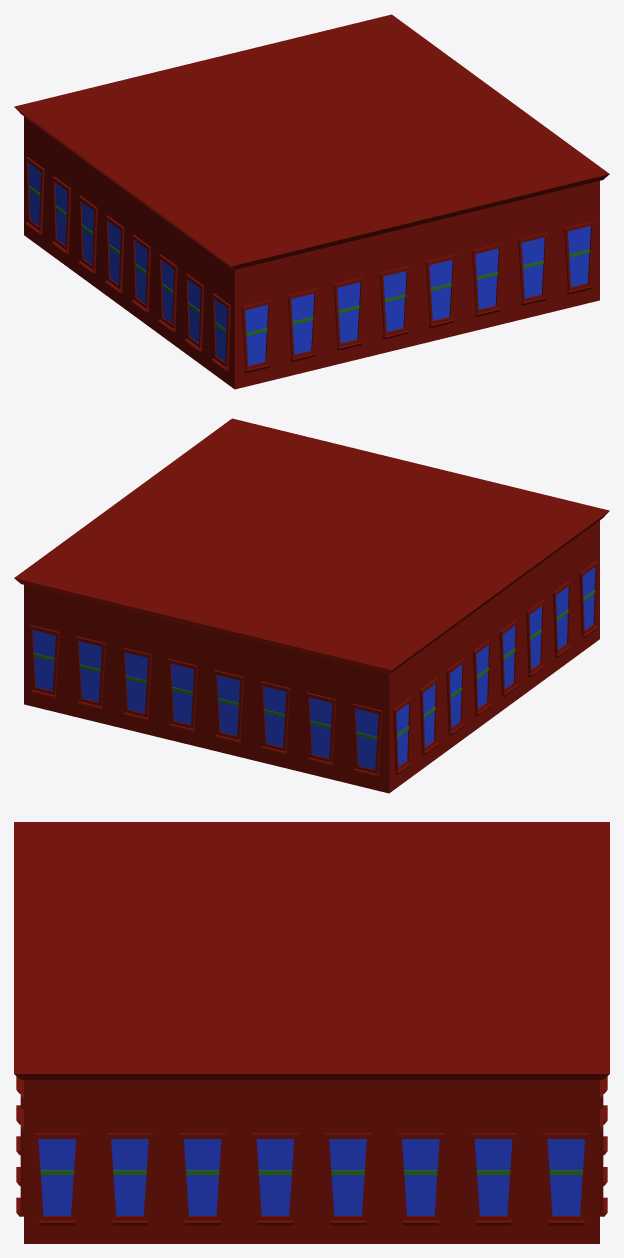
File: SM_Base_Building_4m_03.fbx
3 views of the same model, one above another, from view 1: azimuth 30°, elevation 25°; view 2: azimuth 150°, elevation 25°; view 3: azimuth 270°, elevation 25° (orthographic). The views are drawn at different scales.
Visible parts, largest first — view 1: Base_4m_02; view 2: Base_4m_02; view 3: Base_4m_02.
Boxes of the visible parts, bbox=[...] form: Base_4m_02: bbox=[14, 14, 609, 389]; Base_4m_02: bbox=[14, 418, 609, 793]; Base_4m_02: bbox=[14, 822, 609, 1243].
Bounding box in the file's own units: 12.41 × 4 × 12.41.
